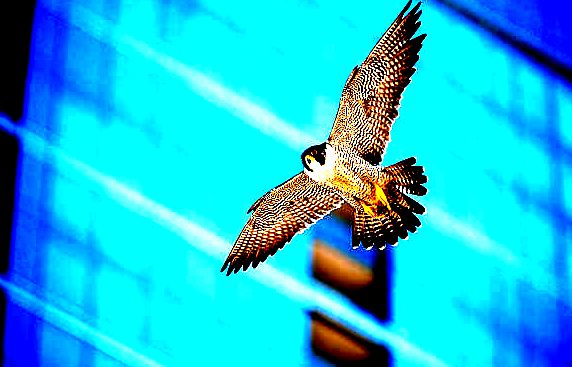Bird: (218, 2, 431, 280)
